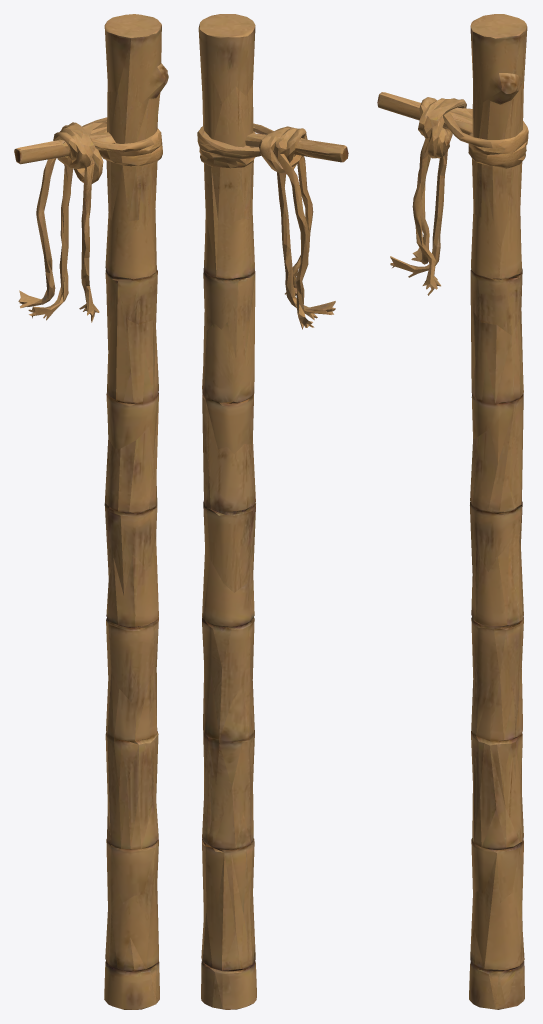
File: lantern-post.glb
3 views of the same model, side by side, from view 1: azimuth 30°, elevation 25°; view 2: azimuth 150°, elevation 25°; view 3: azimuth 330°, elevation 25° (orthographic).
Bounding box in the file's own units: 0.2954 × 1.9 × 0.1384.
Materials: 1 (1 with a texture image).
